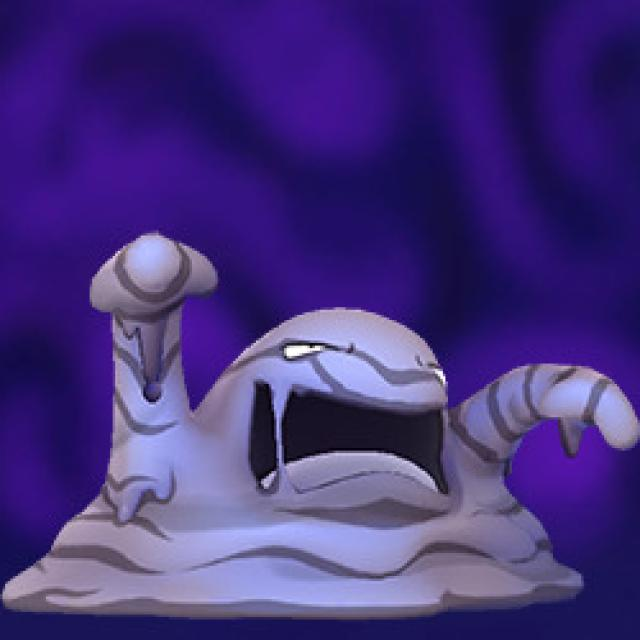Muk: (118, 308, 500, 578)
